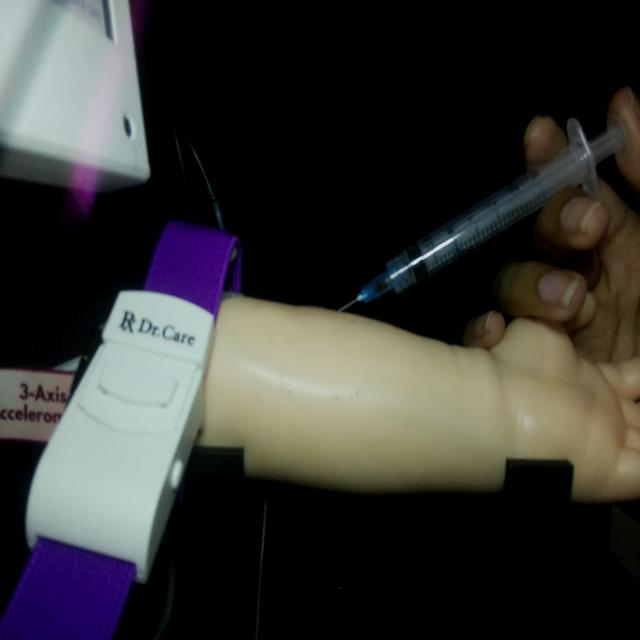22 degrees: (334, 110, 630, 319)
